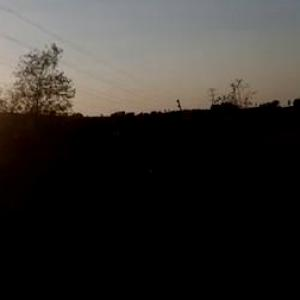follow: (123, 144, 187, 299)
